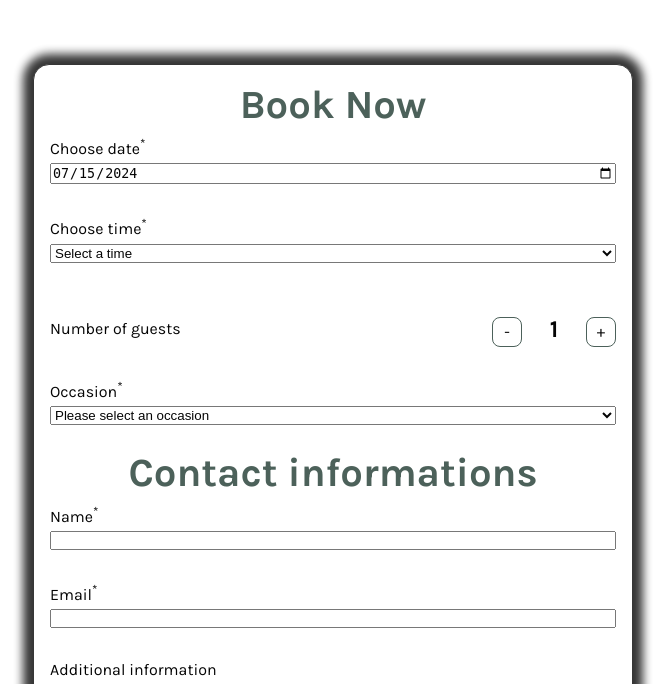
Test: set a valid occasion
Select "Birthday" in the dropdown with test id "select-occasion": [333, 415] box [50,406,616,425]
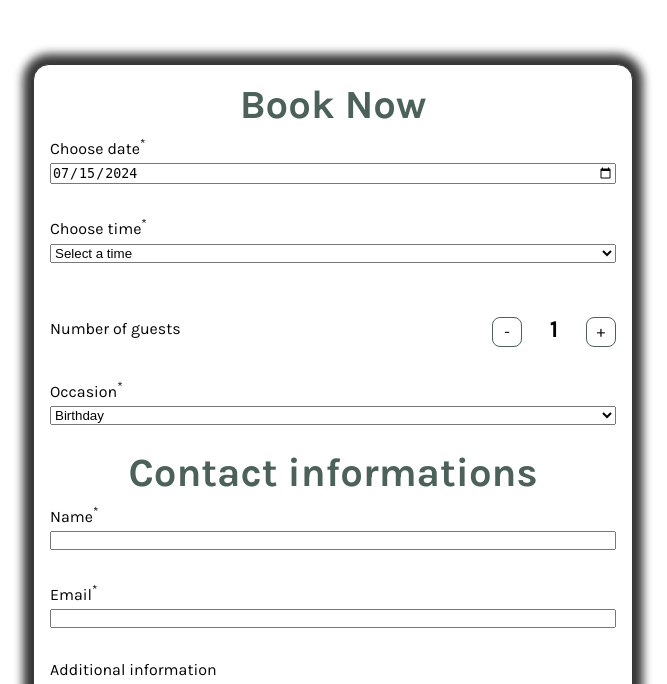
Leave the dropdown with test id "select-occasion", box [50,406,616,425]
(page scrolled)
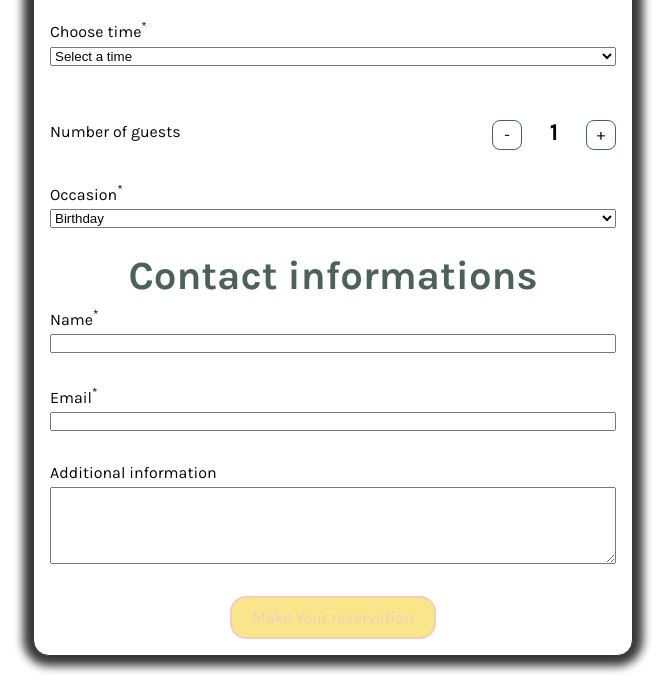
Expected: the button "Make Your reservation" is disabled, [230,596,436,639]
